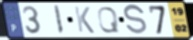3: (22, 5, 44, 36)
7: (147, 5, 167, 36)
I: (52, 4, 65, 36)
K: (73, 5, 96, 35)
Q: (96, 6, 121, 34)
S: (123, 3, 149, 37)
